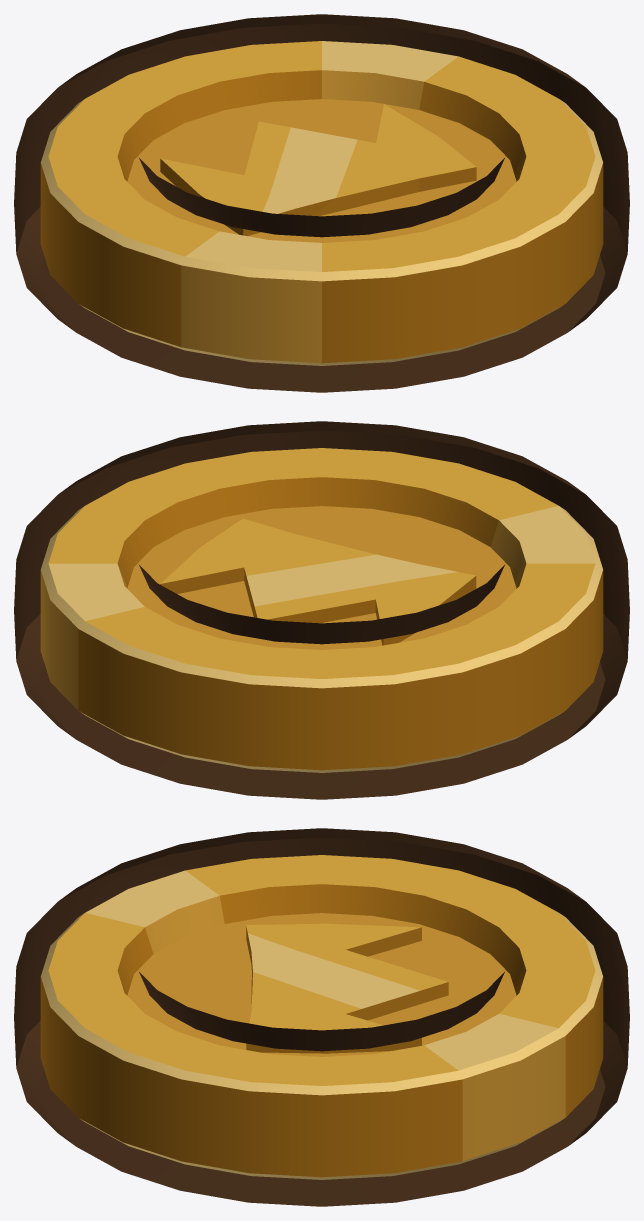
File: singleCoinOutlineFX.fbx
3 views of the same model, one above another, from view 1: azimuth 30°, elevation 25°; view 2: azimuth 150°, elevation 25°; view 3: azimuth 270°, elevation 25° (orthographic).
Parts seen in each view (by area): view 1: singleCoinMesh; view 2: singleCoinMesh; view 3: singleCoinMesh.
Boxes of the visible parts, bbox=[...] form: singleCoinMesh: bbox=[14, 14, 629, 392]; singleCoinMesh: bbox=[14, 421, 629, 799]; singleCoinMesh: bbox=[14, 828, 629, 1206].
Bounding box in the file's own units: 219 × 54.51 × 219.
2 materials, 2 textured.
